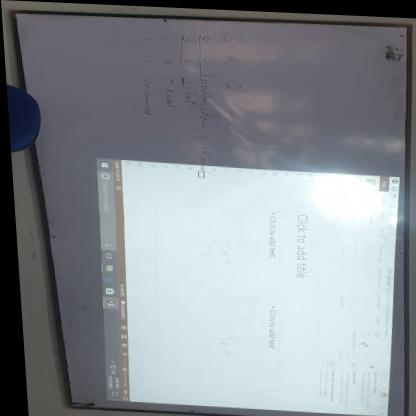Handwritten text: (215, 32, 250, 92), (126, 73, 159, 117), (186, 132, 214, 173), (192, 68, 218, 107), (158, 83, 179, 111), (194, 110, 221, 128)
Whiteboard: (3, 11, 410, 416)
